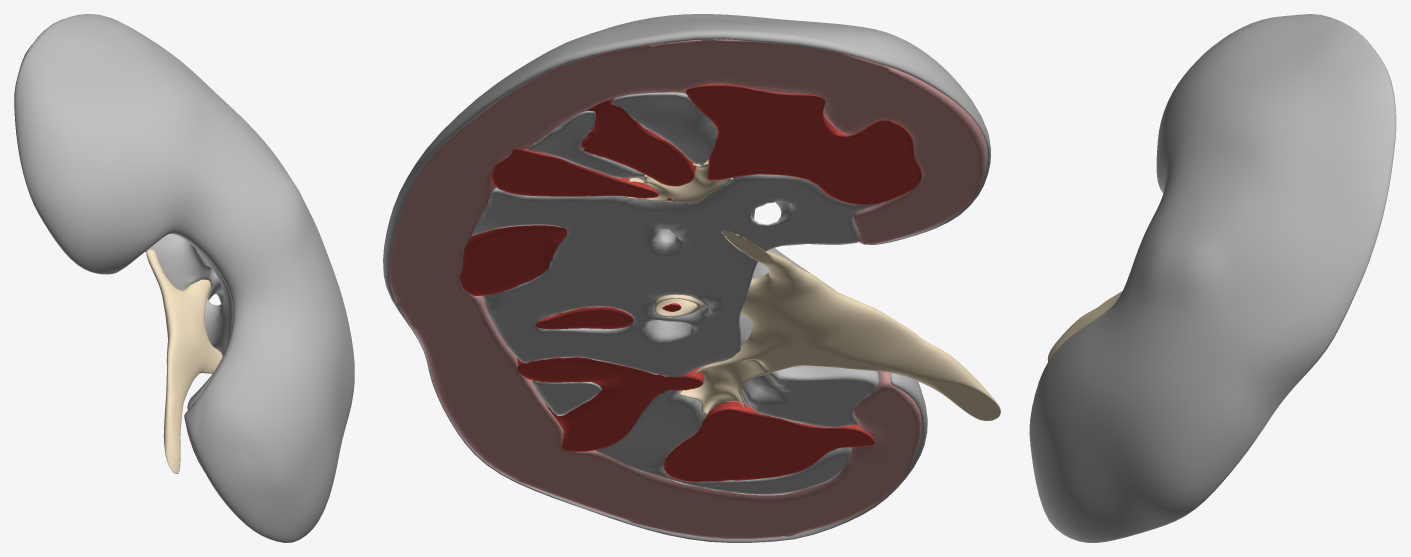
File: VHM_Kidney_L_Bisect_Anterior.fbx
3 views of the same model, side by side, from view 1: azimuth 30°, elevation 25°; view 2: azimuth 150°, elevation 25°; view 3: azimuth 270°, elevation 25° (orthographic). The views are drawn at different scales.
Parts seen in each view (by area): view 1: VHM_Kidney_L_Capsule_Anterior, VHM_Kidney_L_Calyses_Anterior, VHM_Kidney_L_RenalColumns_Anterior; view 2: VHM_Kidney_L_OuterCortex_Anterior, VHM_Kidney_L_RenalColumns_Anterior, VHM_Kidney_L_Pyramids_Anterior, VHM_Kidney_L_Calyses_Anterior, VHM_Kidney_L_Capsule_Anterior; view 3: VHM_Kidney_L_Capsule_Anterior, VHM_Kidney_L_Calyses_Anterior.
Part boxes in pixels (left/top/right/bottom): VHM_Kidney_L_Capsule_Anterior: left=14, top=14, right=354, bottom=542; VHM_Kidney_L_Calyses_Anterior: left=146, top=249, right=222, bottom=473; VHM_Kidney_L_RenalColumns_Anterior: left=145, top=233, right=233, bottom=409; VHM_Kidney_L_OuterCortex_Anterior: left=390, top=39, right=985, bottom=539; VHM_Kidney_L_RenalColumns_Anterior: left=471, top=92, right=885, bottom=495; VHM_Kidney_L_Pyramids_Anterior: left=459, top=84, right=921, bottom=482; VHM_Kidney_L_Calyses_Anterior: left=624, top=162, right=1000, bottom=420; VHM_Kidney_L_Capsule_Anterior: left=383, top=14, right=990, bottom=542; VHM_Kidney_L_Capsule_Anterior: left=1029, top=14, right=1396, bottom=542; VHM_Kidney_L_Calyses_Anterior: left=1047, top=291, right=1122, bottom=361.
Bounding box in the file's own units: 9.32 × 12.3 × 9.12.
